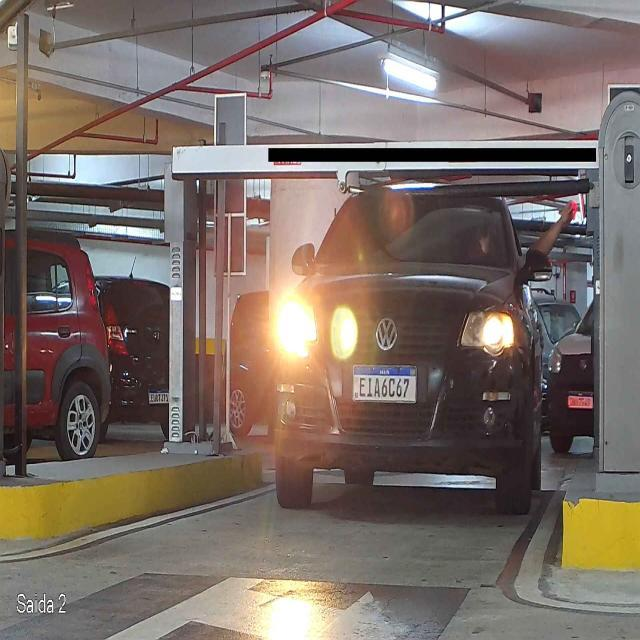mercosul_plate: (350, 362, 420, 406)
